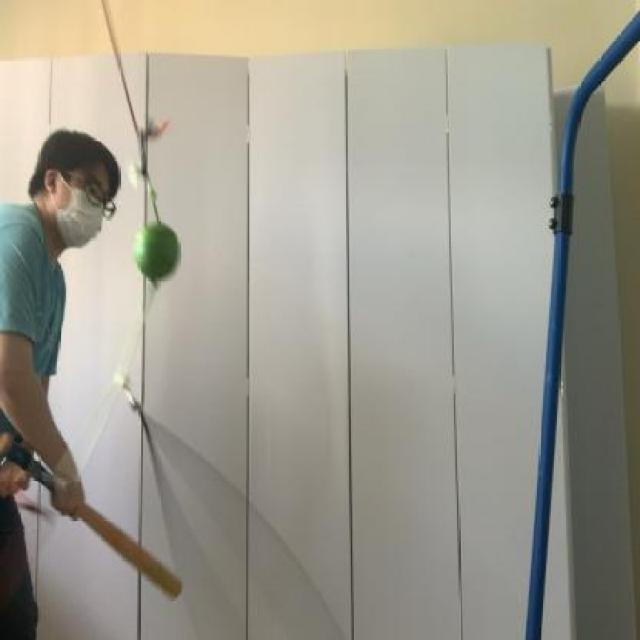baseball: (125, 215, 183, 299)
